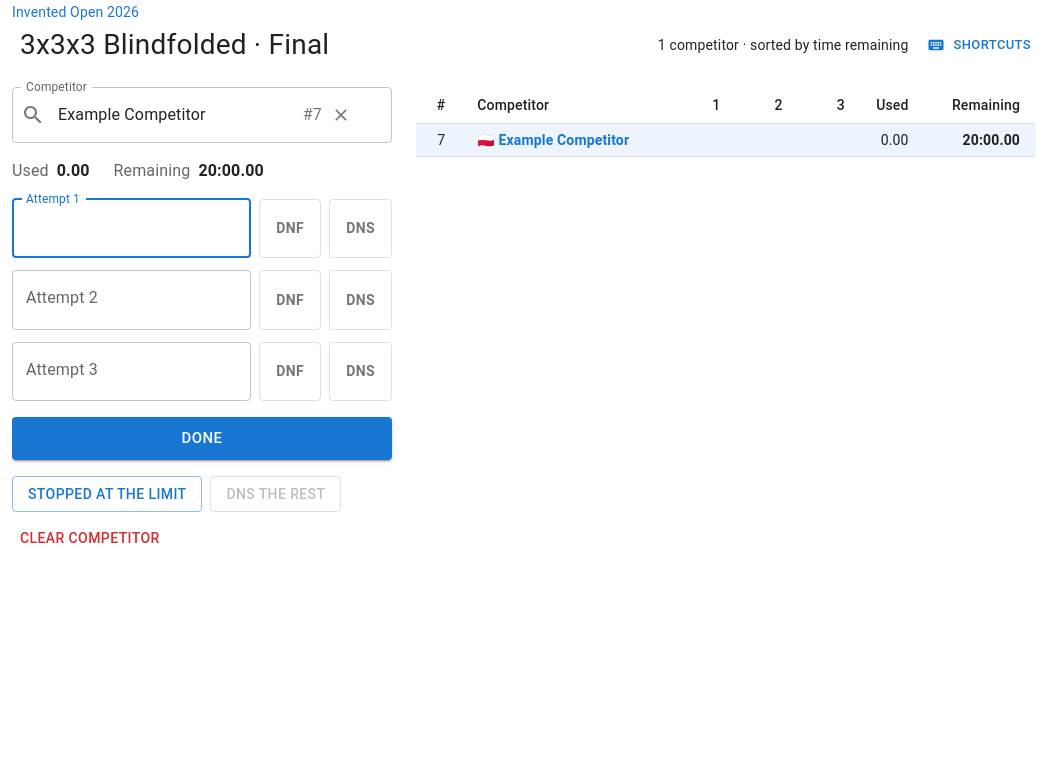
Test case: local competition flow › shows the open competitor in the search and closes it from there
Expected: the dropdown labelled "Competitor" holds "Example Competitor", [53,96,295,134]
What coordinates should you click on to do the following:
click the button named "Close competitor"
I would click on:
 (341, 115)
Its box is [326,100,356,130].
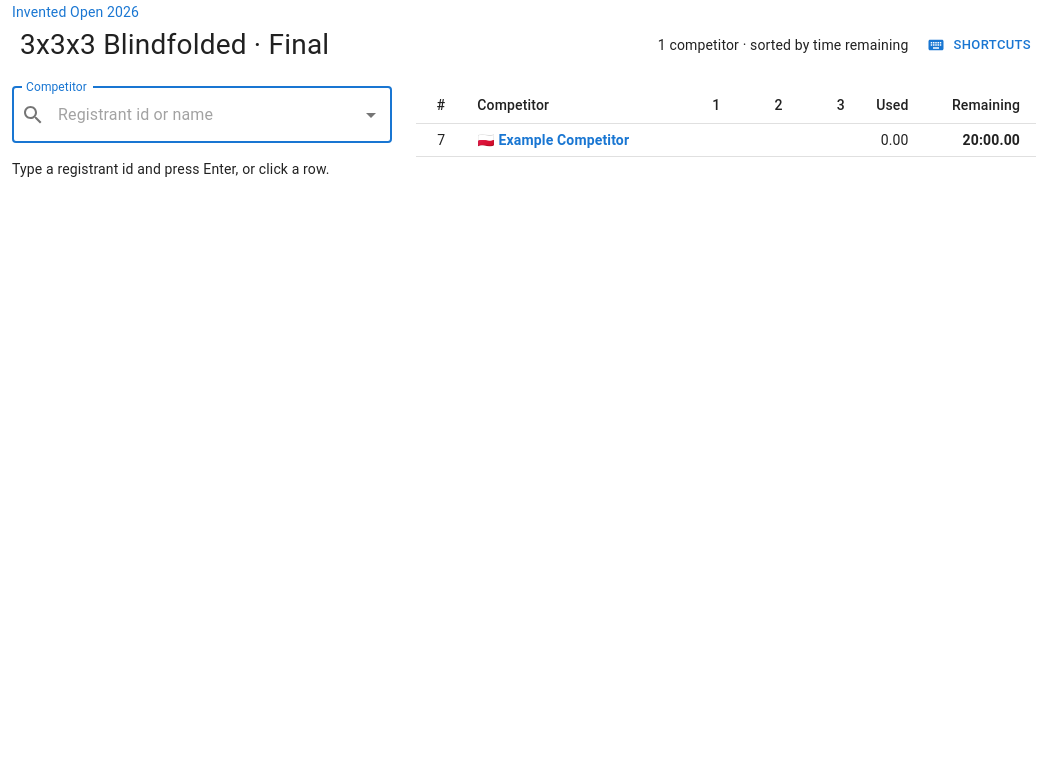
Now the dropdown labelled "Competitor" is empty, box [53,96,353,134]
Now the label labelled "Attempt 1" is gone
